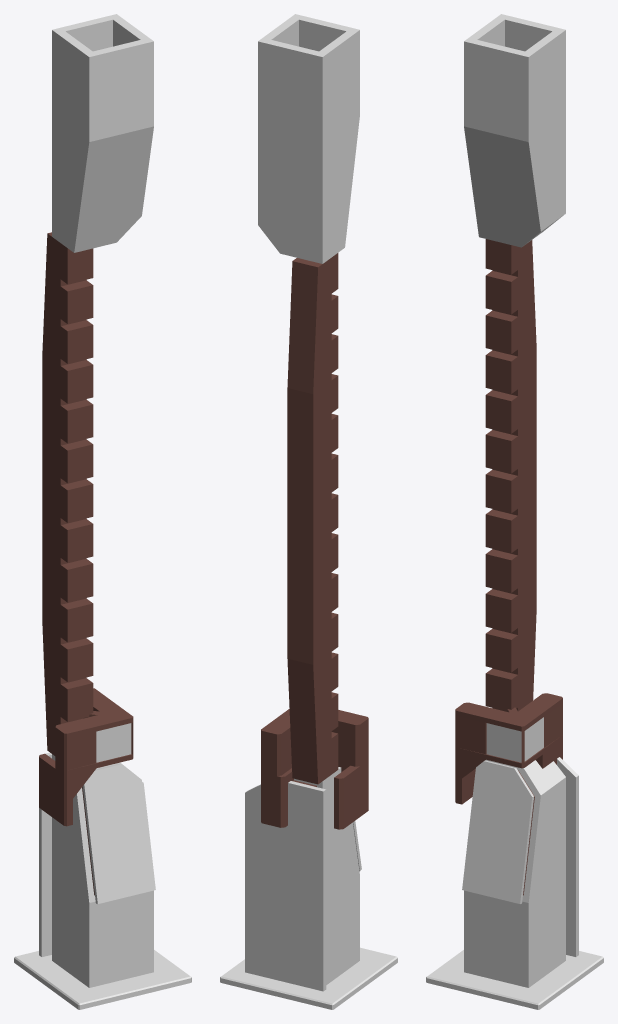
The picture shows the model from 3 angles, left to right: view 1: azimuth 30°, elevation 25°; view 2: azimuth 150°, elevation 25°; view 3: azimuth 330°, elevation 25°; orthographic projection.
Visible parts, largest first — view 1: 1x1B, Lift; view 2: 1x1B, Lift; view 3: 1x1B, Lift.
Boxes of the visible parts, left/top/right/bottom form: 1x1B: left=14, top=14, right=191, bottom=1009; Lift: left=39, top=688, right=133, bottom=826; 1x1B: left=220, top=14, right=397, bottom=1009; Lift: left=261, top=709, right=368, bottom=829; 1x1B: left=426, top=14, right=603, bottom=1009; Lift: left=455, top=693, right=562, bottom=804.
Size of the model in its own units: 1 by 7.89 by 1.
